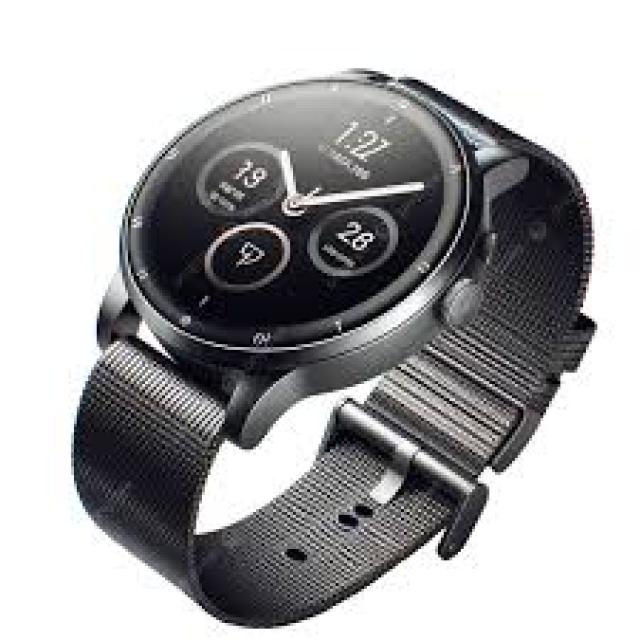objects: (74, 70, 597, 628)
